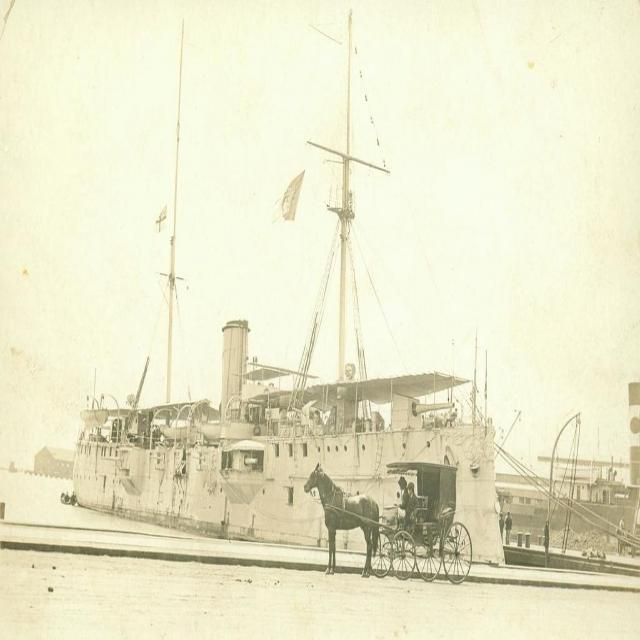Horse: (304, 461, 381, 578)
